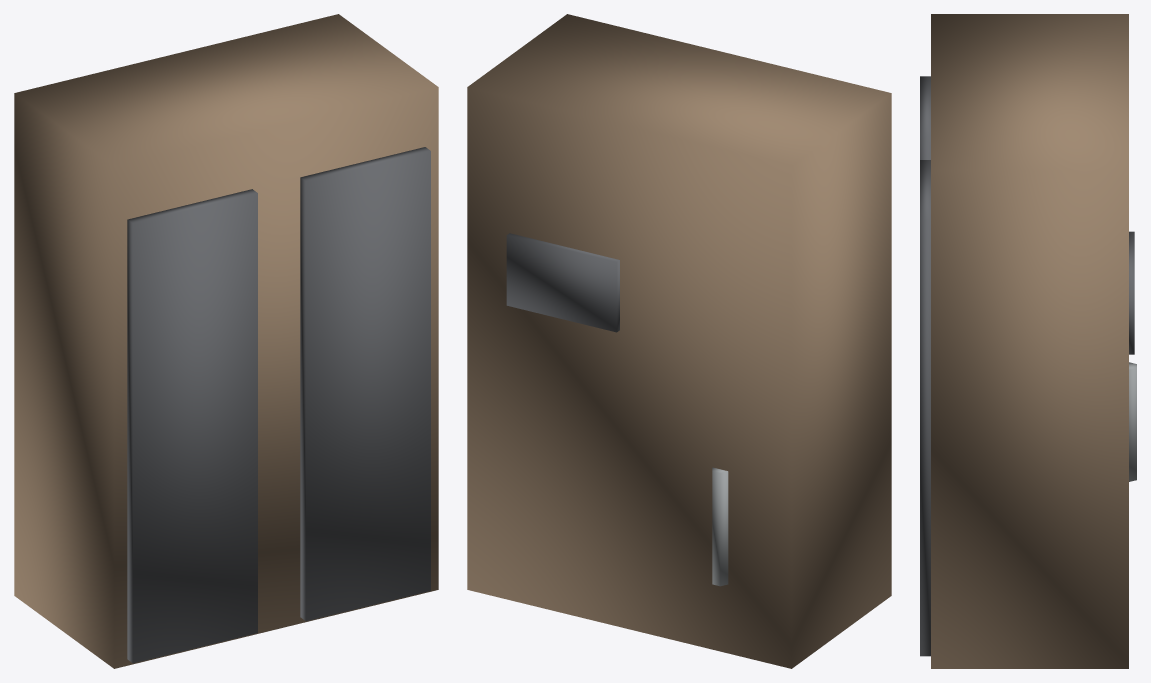
Rendered from confessional_booth__service.glb.
The picture shows the model from 3 angles, left to right: view 1: azimuth 30°, elevation 25°; view 2: azimuth 150°, elevation 25°; view 3: azimuth 270°, elevation 25°; orthographic projection.
Visible parts, largest first — view 1: world; view 2: world; view 3: world.
Boxes of the visible parts, bbox=[...] form: world: bbox=[14, 14, 438, 668]; world: bbox=[467, 14, 891, 668]; world: bbox=[920, 14, 1136, 668].
Bounding box in the file's own units: 1.35 × 2 × 0.7892.
